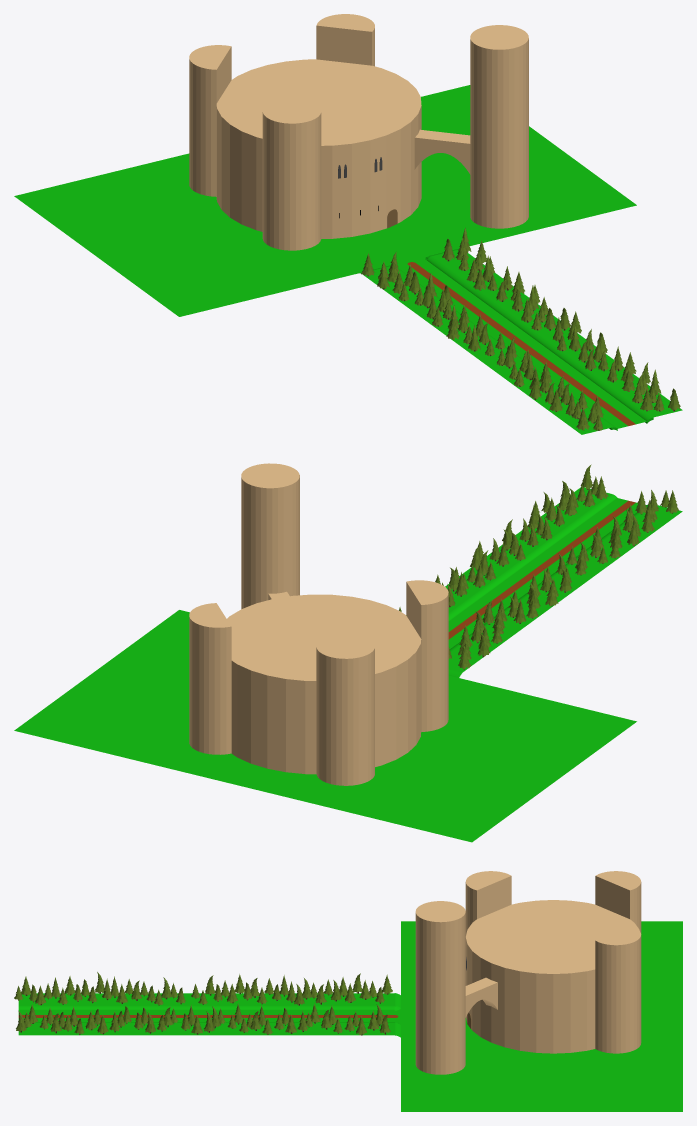
The model's file is camiInicial.glb.
The picture shows the model from 3 angles, top to bottom: view 1: azimuth 30°, elevation 25°; view 2: azimuth 150°, elevation 25°; view 3: azimuth 270°, elevation 25°; orthographic projection. The views are drawn at different scales.
Visible parts, largest first — view 1: terraBellver, Castell, Semitorre, Torre, bosc.E, herba.E.002, Semitorre.001, rampaBosc.E, terra, Pont; view 2: terraBellver, Castell, Semitorre, Torre, Semitorre.001, bosc.E, herba.E.002, rampaBosc.E, terra; view 3: terraBellver, Castell, Torre, bosc.E, Semitorre.001, Semitorre, rampaBosc.E, herba.E.002, Pont, terra.
Boxes of the visible parts, x1,y1,x2,y2 form: terraBellver: [14, 85, 636, 316]; Castell: [216, 59, 421, 238]; Semitorre: [189, 45, 321, 250]; Torre: [470, 25, 528, 228]; bosc.E: [363, 250, 682, 434]; herba.E.002: [398, 260, 646, 428]; Semitorre.001: [316, 14, 374, 66]; rampaBosc.E: [398, 256, 653, 430]; terra: [408, 263, 635, 425]; Pont: [414, 129, 470, 174]; terraBellver: [14, 610, 636, 842]; Castell: [227, 594, 421, 774]; Semitorre: [316, 580, 448, 785]; Torre: [241, 463, 299, 608]; Semitorre.001: [189, 603, 231, 754]; bosc.E: [445, 487, 682, 672]; herba.E.002: [448, 498, 646, 648]; rampaBosc.E: [448, 494, 647, 651]; terra: [448, 500, 635, 639]; terraBellver: [394, 921, 682, 1111]; Castell: [465, 900, 639, 1053]; Torre: [415, 901, 465, 1074]; bosc.E: [18, 993, 394, 1035]; Semitorre.001: [595, 926, 641, 1053]; Semitorre: [465, 871, 641, 936]; rampaBosc.E: [18, 1005, 394, 1022]; herba.E.002: [18, 1010, 394, 1021]; Pont: [465, 977, 497, 1017]; terra: [18, 1015, 394, 1017].
Bounding box in the file's own units: 360 × 145 × 534.
